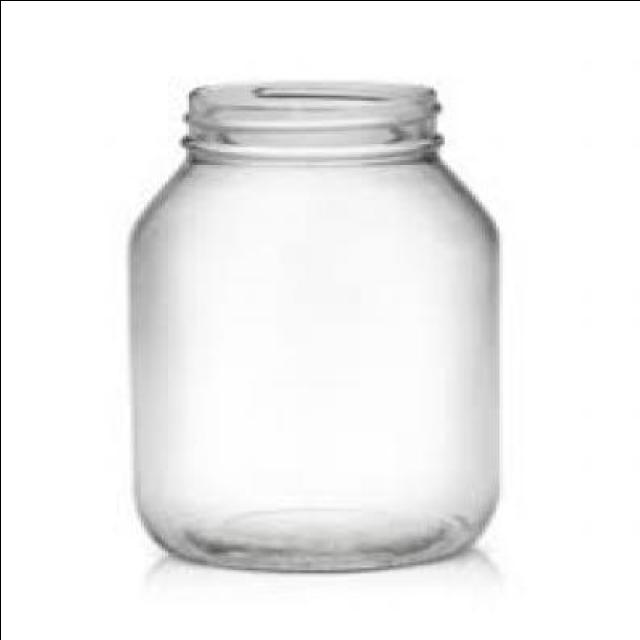kaca: (122, 82, 495, 569)
